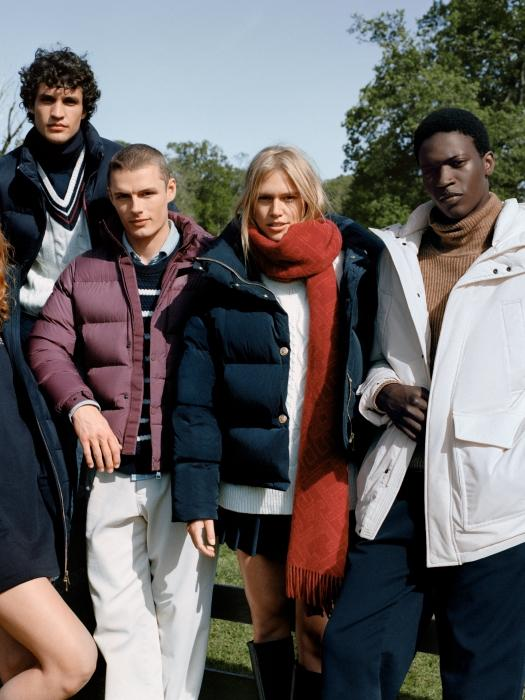coat: (157, 209, 383, 526), (355, 195, 525, 570), (28, 210, 230, 478), (0, 119, 148, 301)
skirt: (214, 502, 327, 564)
sweater: (221, 253, 345, 513), (413, 192, 500, 393)
trousers: (321, 460, 525, 700), (87, 464, 218, 700)
